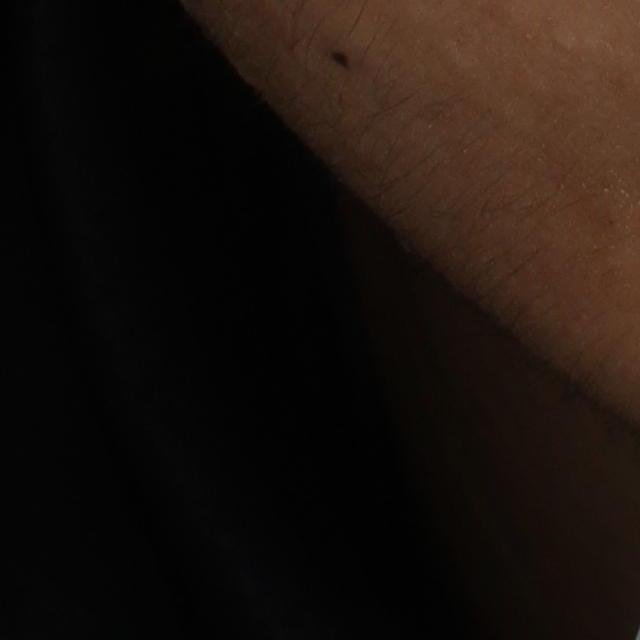nevus: (328, 48, 352, 75)
